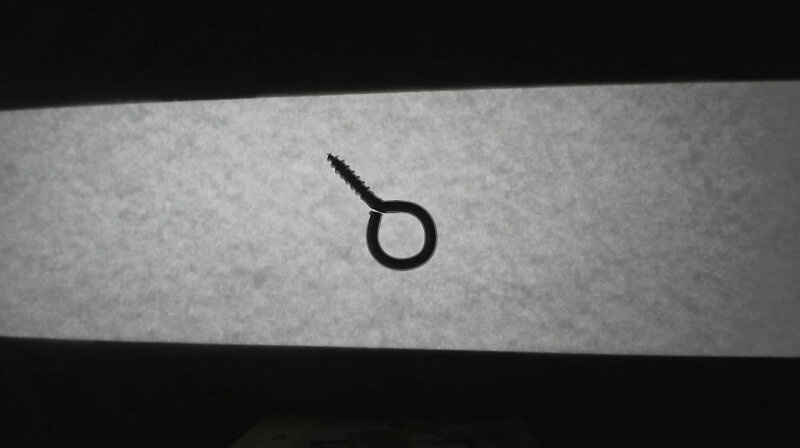O001: (326, 151, 445, 273)
